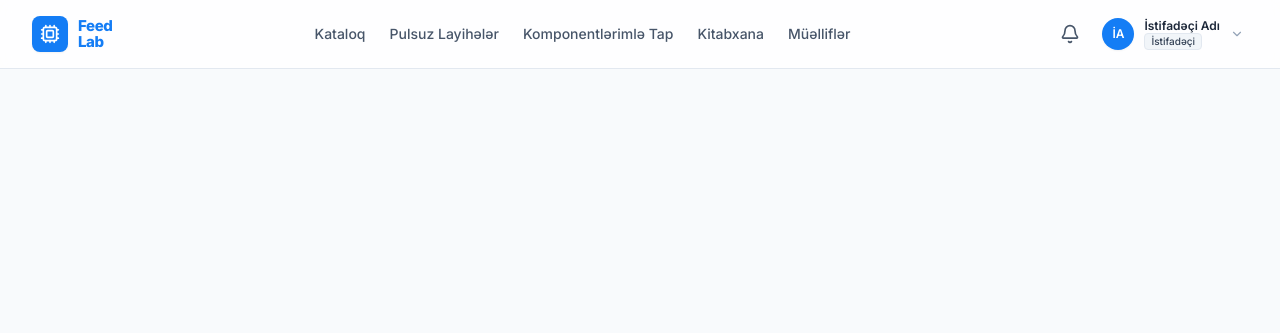
Test: Header Component › opens dropdown and executes logout when clicking logout
Later steps or results of the test are not shown.
Click the button "İA İstifadəçi Adı İstifadəçi".
click(1173, 34)  # box [1098,14,1248,54]
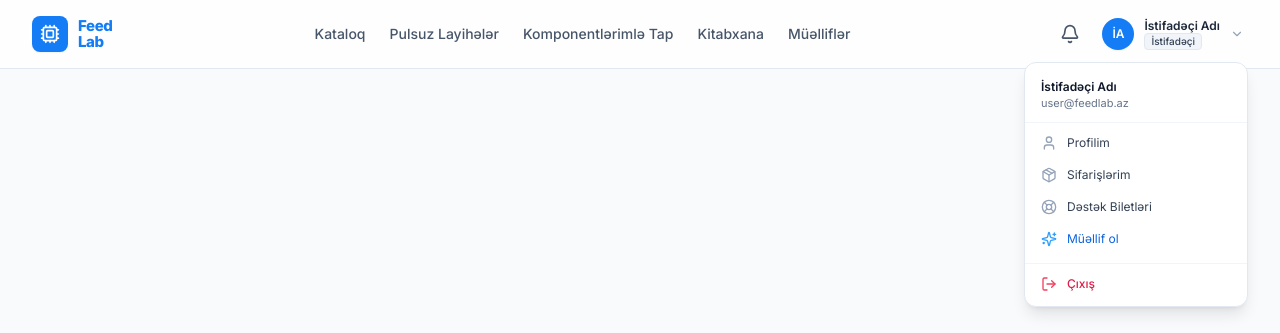
Expected: the button "Çıxış" is shown, [1025,268,1247,300]
